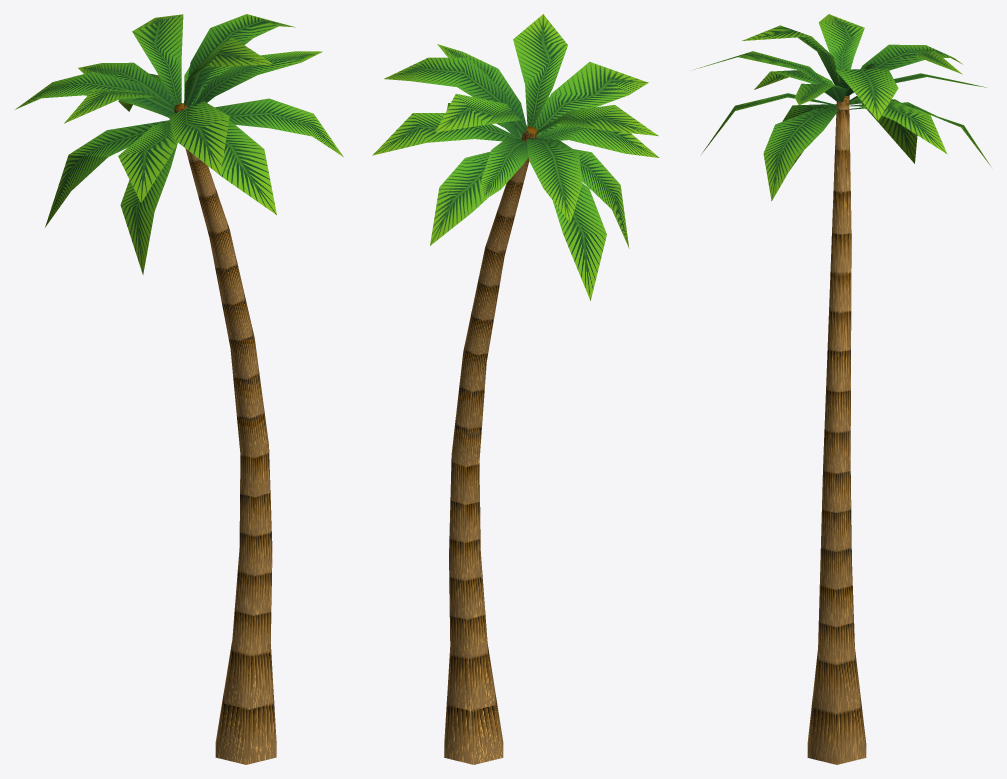
The model's file is palmera.obj.
3 renders of one model, left to right at view 1: azimuth 30°, elevation 25°; view 2: azimuth 150°, elevation 25°; view 3: azimuth 270°, elevation 25°, orthographic. The views are drawn at different scales.
Visible parts, largest first — view 1: MY_PALM:palm1; view 2: MY_PALM:palm1; view 3: MY_PALM:palm1.
Part boxes in pixels (<box>): MY_PALM:palm1: <box>15,14,343,764</box>; MY_PALM:palm1: <box>372,14,659,764</box>; MY_PALM:palm1: <box>694,14,990,764</box>.
Bounding box in the file's own units: 3.67 × 9.91 × 3.9.
Materials: 1 (1 with a texture image).
